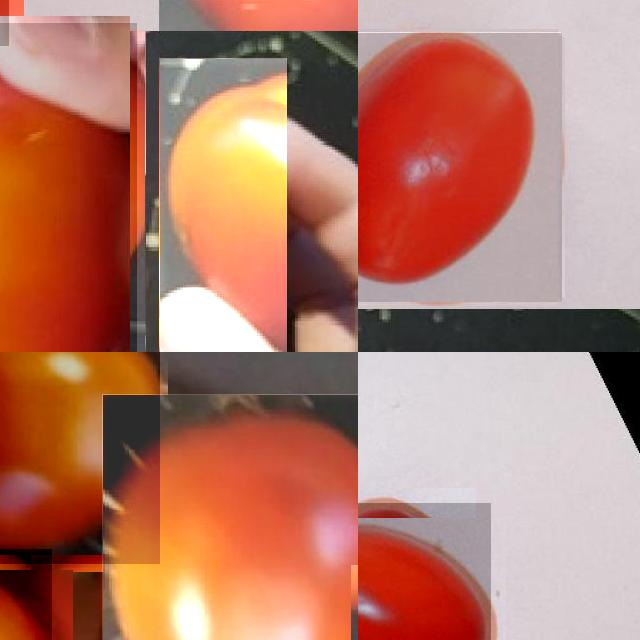Fresh Tomato: (102, 394, 358, 640), (358, 32, 561, 302), (0, 23, 137, 352), (159, 58, 287, 352), (0, 352, 160, 563), (358, 503, 491, 640)
